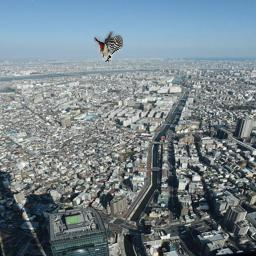Woodpecker: (94, 31, 123, 62)
